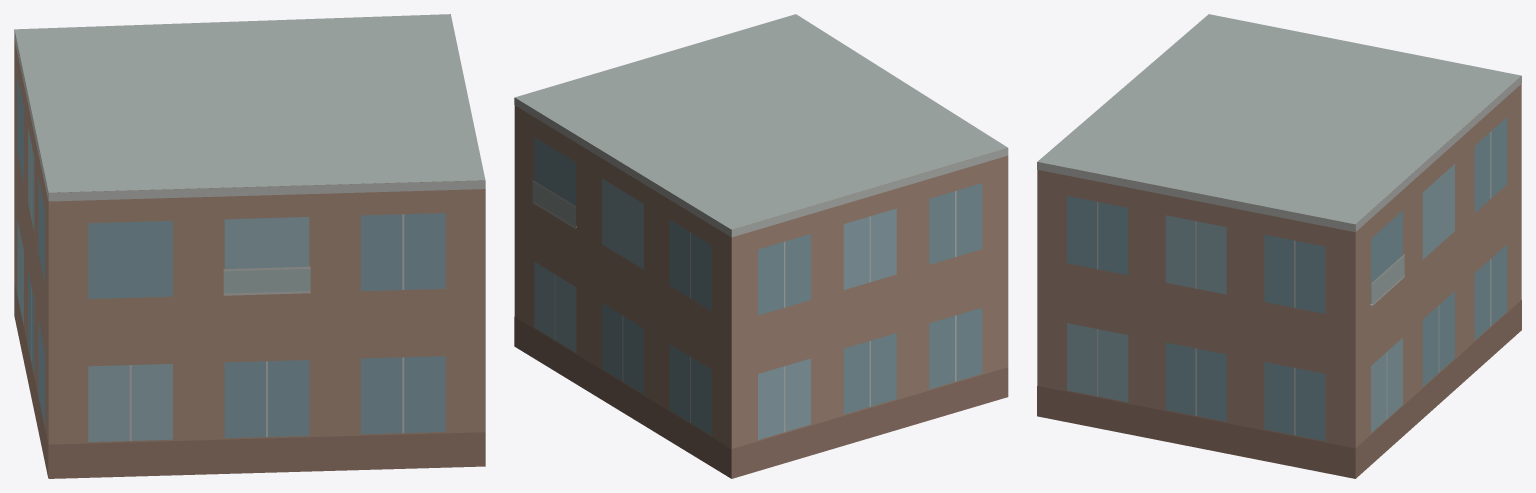
File: survey-upis-32639056.glb
The picture shows the model from 3 angles, left to right: view 1: azimuth 30°, elevation 25°; view 2: azimuth 150°, elevation 25°; view 3: azimuth 270°, elevation 25°; orthographic projection. The views are drawn at different scales.
Parts seen in each view (by area): view 1: survey-upis-32639056.tmp; view 2: survey-upis-32639056.tmp; view 3: survey-upis-32639056.tmp.
Part boxes in pixels (x1=…): survey-upis-32639056.tmp: x1=14, y1=14, x2=485, y2=478; survey-upis-32639056.tmp: x1=514, y1=14, x2=1008, y2=478; survey-upis-32639056.tmp: x1=1037, y1=14, x2=1521, y2=478.
Size of the model in its own units: 14.01 by 7.9 by 13.64.
